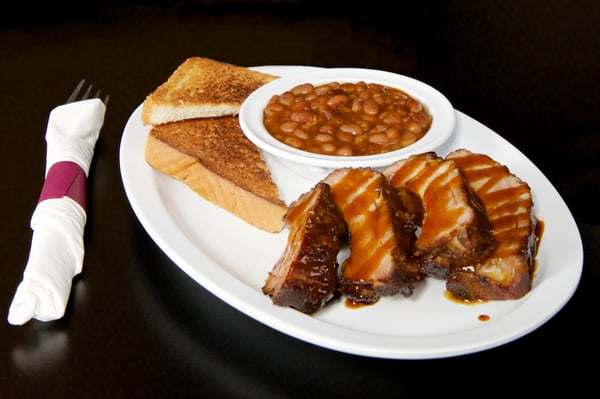soup: (144, 114, 287, 236)
sushi: (239, 71, 457, 201)
